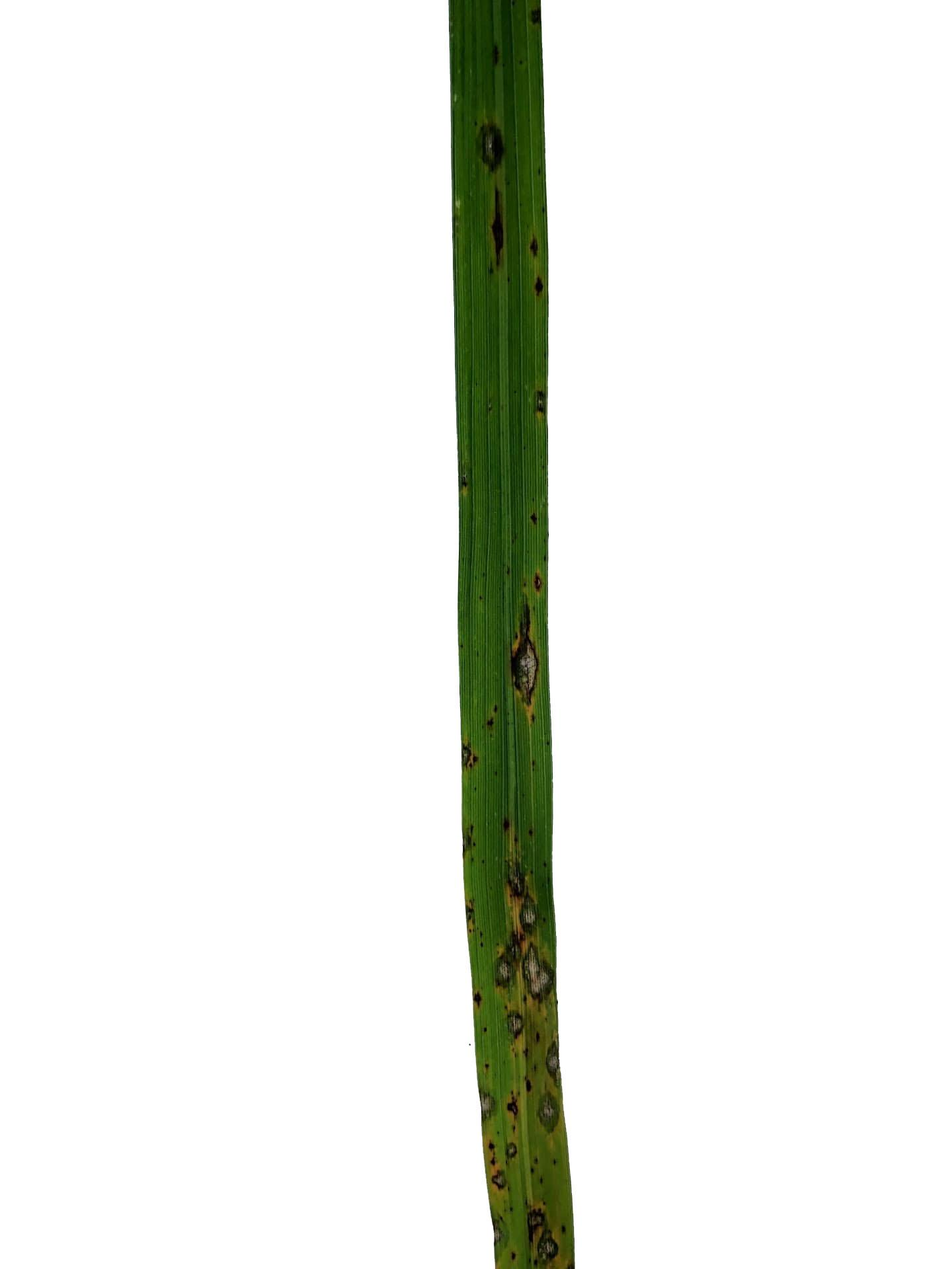Rice blast: (506, 603, 542, 707), (521, 1207, 564, 1267), (519, 943, 551, 1013), (491, 181, 513, 280), (478, 115, 511, 177), (532, 1088, 563, 1139), (495, 934, 521, 983), (502, 1006, 528, 1040), (543, 1040, 562, 1085), (510, 897, 539, 925), (489, 1163, 513, 1195), (482, 1089, 496, 1123), (511, 862, 525, 894), (507, 1128, 514, 1161)
